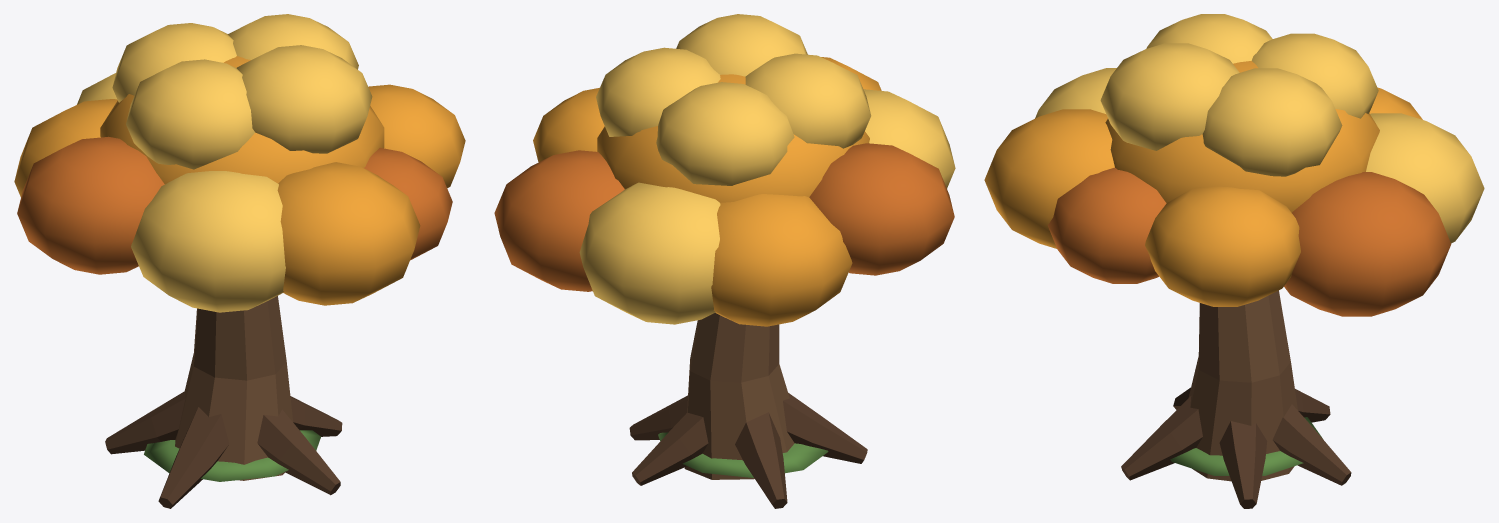
The model's file is GiantTreeB.fbx.
The picture shows the model from 3 angles, left to right: view 1: azimuth 30°, elevation 25°; view 2: azimuth 150°, elevation 25°; view 3: azimuth 270°, elevation 25°; orthographic projection. The views are drawn at different scales.
Visible parts, largest first — view 1: Frame; view 2: Frame; view 3: Frame.
Boxes of the visible parts, <box> form: Frame: <box>14,14,465,508</box>; Frame: <box>494,14,955,508</box>; Frame: <box>984,14,1484,508</box>.
Bounding box in the file's own units: 12.58 × 12.22 × 13.15.
1 material, 1 textured.
